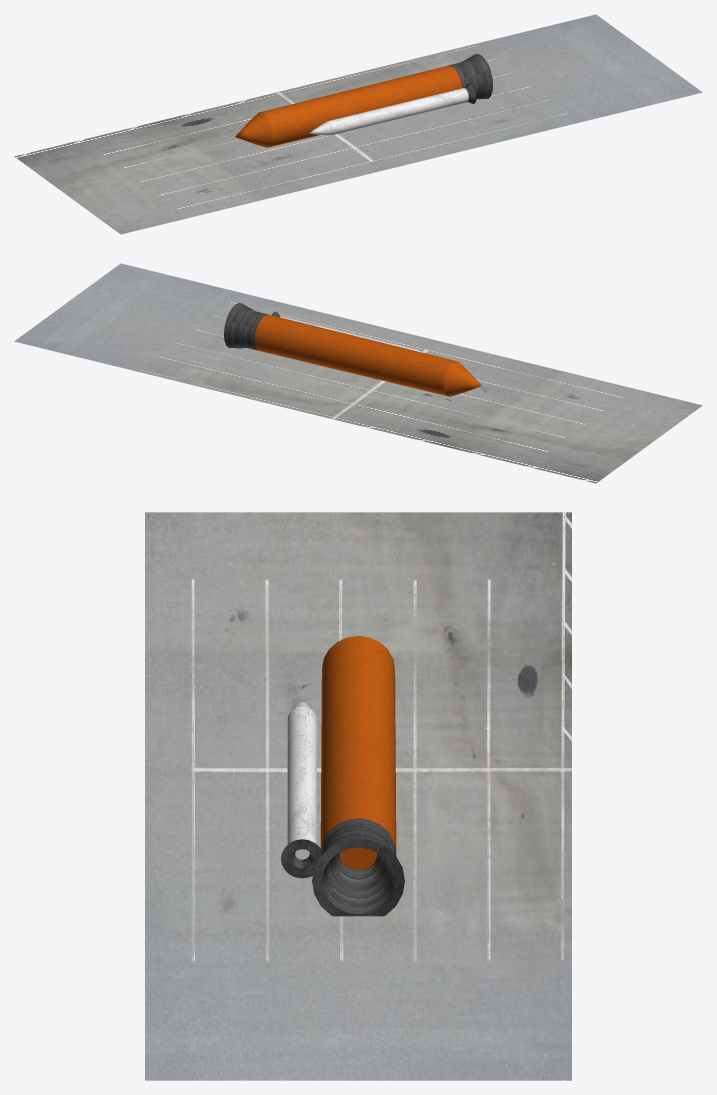
Rendered from SpaceLv3.fbx.
3 views of the same model, one above another, from view 1: azimuth 30°, elevation 25°; view 2: azimuth 150°, elevation 25°; view 3: azimuth 270°, elevation 25° (orthographic). The views are drawn at different scales.
Parts seen in each view (by area): view 1: polySurface21; view 2: polySurface21; view 3: polySurface21.
Boxes of the visible parts, x1,y1,x2,y2 form: polySurface21: (14,14,702,234); polySurface21: (14,263,702,483); polySurface21: (145,512,571,1080).
Bounding box in the file's own units: 275 × 19.2 × 87.38.
4 materials, 4 textured.
